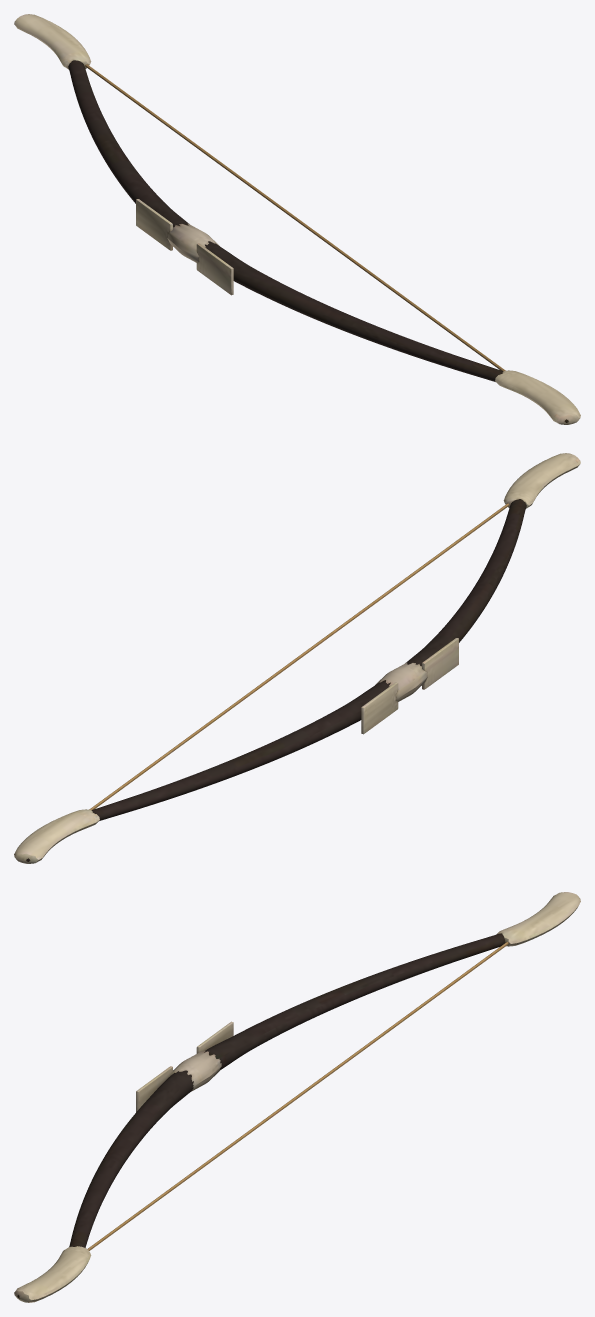
Rendered from bow_hunnic.glb.
The picture shows the model from 3 angles, top to bottom: view 1: azimuth 30°, elevation 25°; view 2: azimuth 150°, elevation 25°; view 3: azimuth 330°, elevation 25°; orthographic projection.
Parts seen in each view (by area): view 1: bow_hunnic; view 2: bow_hunnic; view 3: bow_hunnic.
Boxes of the visible parts, x1=… form: bow_hunnic: x1=14, y1=14, x2=580, y2=424; bow_hunnic: x1=14, y1=453, x2=580, y2=863; bow_hunnic: x1=14, y1=892, x2=580, y2=1302.
Bounding box in the file's own units: 0.1818 × 0.034 × 1.27.
Materials: 1 (1 with a texture image).
